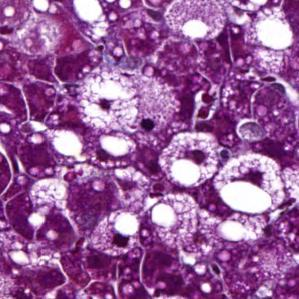ballooning: (211, 150, 287, 216), (75, 70, 143, 134), (158, 130, 222, 189)
